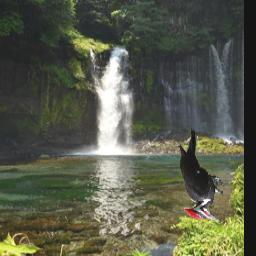Woodpecker: (179, 129, 224, 221)
